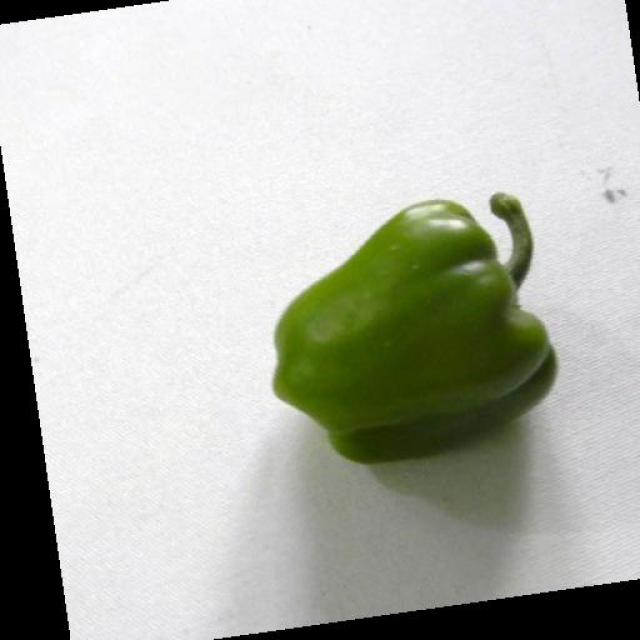Fresh_Capsicum: (273, 177, 587, 471)
